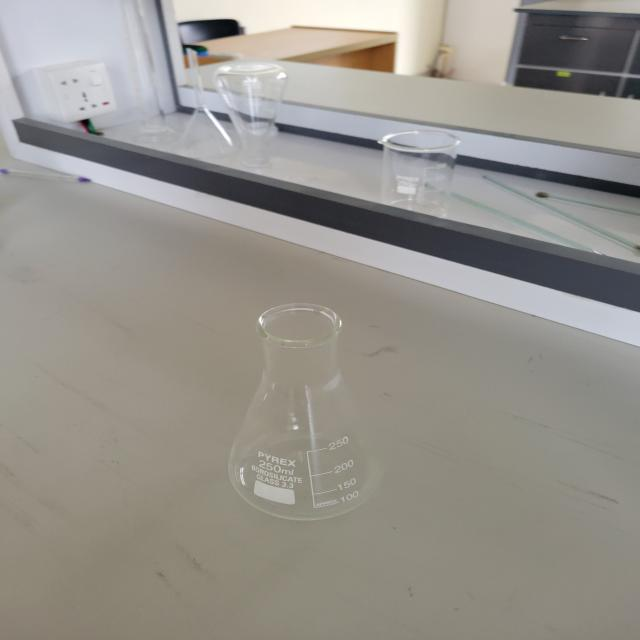Beaker: (350, 104, 482, 258)
Conical_Flask: (202, 273, 408, 554)
